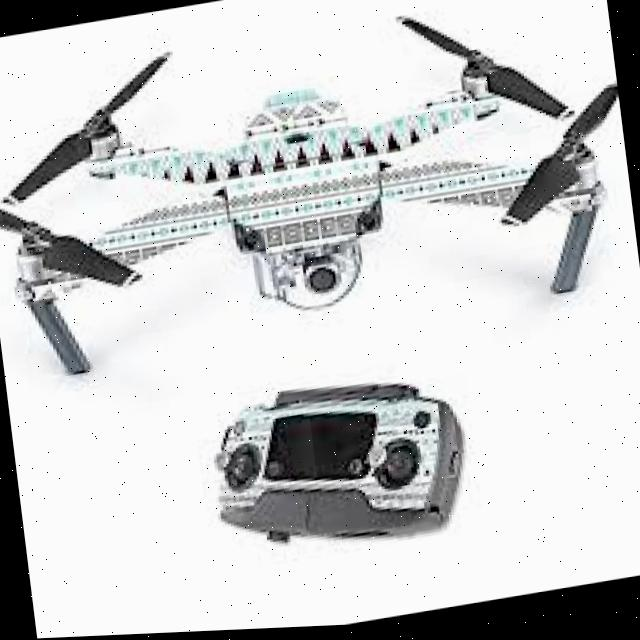drone: (0, 0, 640, 406)
